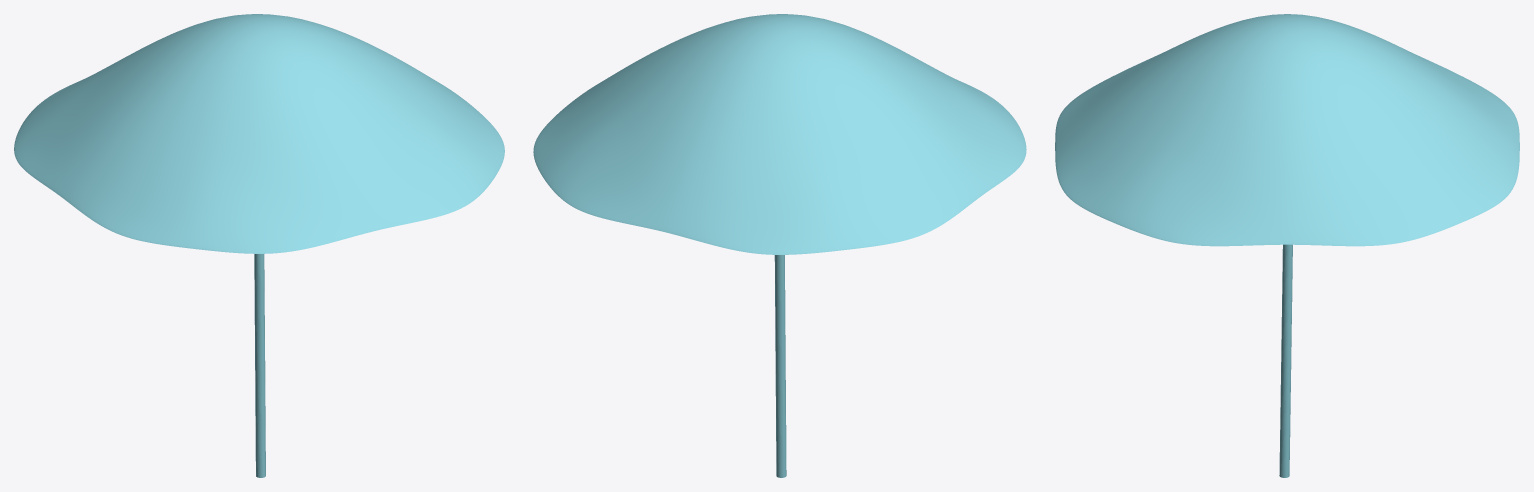
3 renders of one model, left to right at view 1: azimuth 30°, elevation 25°; view 2: azimuth 150°, elevation 25°; view 3: azimuth 270°, elevation 25°, orthographic.
Visible parts, largest first — view 1: 平面, 柱体; view 2: 平面, 柱体; view 3: 平面, 柱体.
Boxes of the visible parts, x1,y1,x2,y2 form: 平面: (14, 14, 504, 253); 柱体: (254, 254, 265, 477); 平面: (533, 14, 1026, 254); 柱体: (774, 255, 786, 477); 平面: (1055, 14, 1519, 246); 柱体: (1279, 244, 1292, 477).
Bounding box in the file's own units: 8.48 × 9.01 × 8.48.
